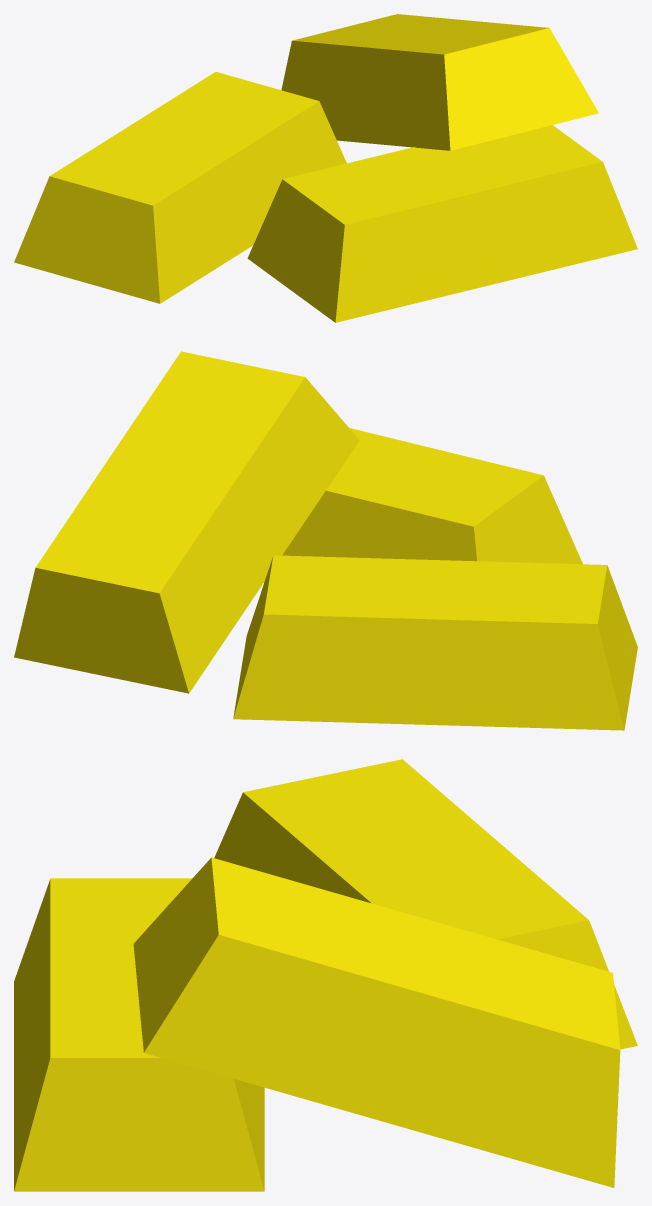
3 renders of one model, top to bottom at view 1: azimuth 30°, elevation 25°; view 2: azimuth 150°, elevation 25°; view 3: azimuth 270°, elevation 25°, orthographic. The views are drawn at different scales.
Parts seen in each view (by area): view 1: Cube.001; view 2: Cube.001; view 3: Cube.001.
Boxes of the visible parts, left/top/right/bottom form: Cube.001: left=14, top=14, right=637, bottom=322; Cube.001: left=14, top=351, right=637, bottom=730; Cube.001: left=14, top=759, right=637, bottom=1191.
Size of the model in its own units: 641 by 219 by 498.
